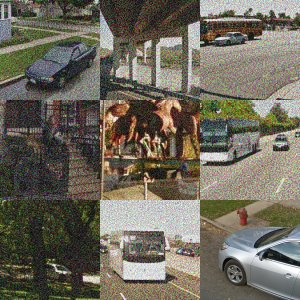公車: (105, 226, 173, 285), (201, 116, 264, 165)
樓梯: (34, 130, 97, 200)
汽車: (213, 220, 298, 300), (26, 40, 96, 90), (41, 260, 74, 284), (212, 31, 249, 47), (273, 133, 289, 151)
